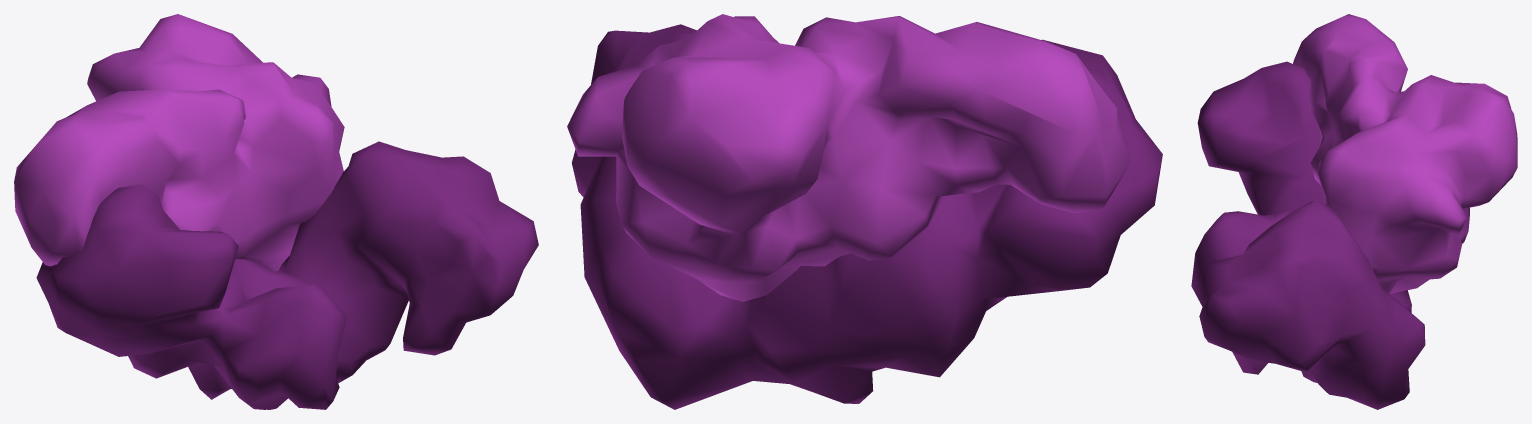
File: HIV1_RT_3hvt_0_1_1.dae
The picture shows the model from 3 angles, left to right: view 1: azimuth 30°, elevation 25°; view 2: azimuth 150°, elevation 25°; view 3: azimuth 270°, elevation 25°; orthographic projection. The views are drawn at different scales.
Parts seen in each view (by area): view 1: _3hvtACMS, _3hvtBCMS; view 2: _3hvtBCMS, _3hvtACMS; view 3: _3hvtACMS, _3hvtBCMS.
Part boxes in pixels (x1,y1,x2,y2): _3hvtACMS: [36, 141, 538, 409]; _3hvtBCMS: [14, 14, 344, 271]; _3hvtBCMS: [567, 14, 1131, 301]; _3hvtACMS: [572, 24, 1162, 409]; _3hvtACMS: [1191, 61, 1425, 409]; _3hvtBCMS: [1293, 14, 1517, 293].
Size of the model in its own units: 1.11 by 0.7795 by 0.8201.
